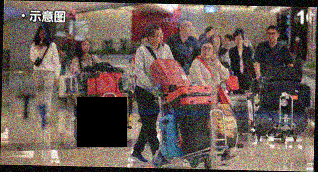without_mask: (200, 44, 215, 59), (183, 23, 194, 37), (267, 30, 278, 43), (154, 30, 164, 44), (81, 41, 91, 52), (212, 37, 221, 48), (234, 36, 243, 45), (39, 31, 47, 41), (206, 29, 214, 38), (223, 38, 231, 46)
